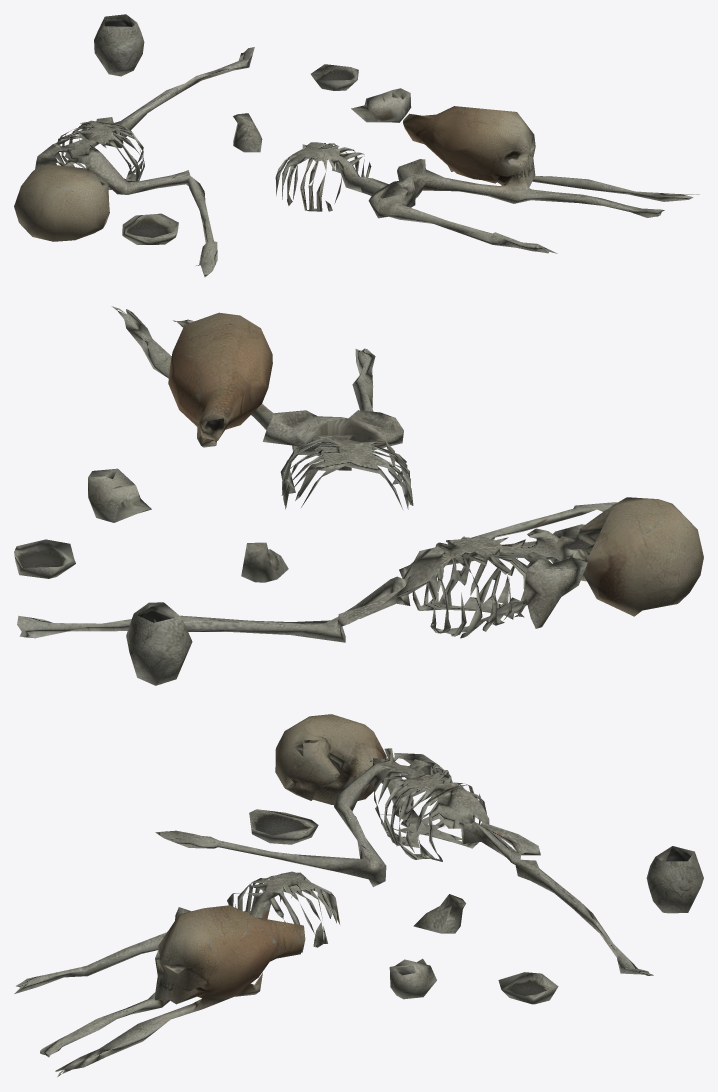
The model's file is remains.glb.
The picture shows the model from 3 angles, top to bottom: view 1: azimuth 30°, elevation 25°; view 2: azimuth 150°, elevation 25°; view 3: azimuth 270°, elevation 25°; orthographic projection. The views are drawn at different scales.
Bounding box in the file's own units: 1.88 × 0.2747 × 1.78.
1 material, 1 textured.
